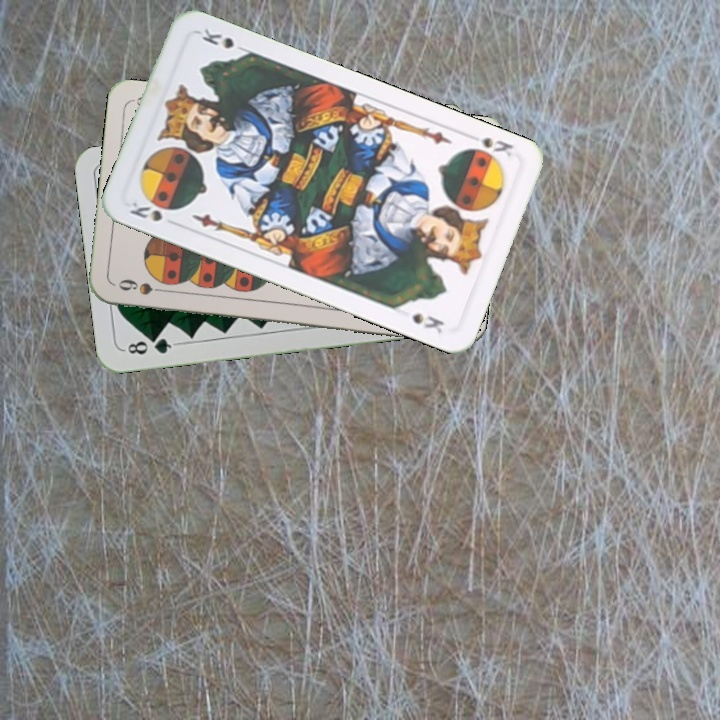G8: (120, 333, 179, 357)
S9: (114, 275, 172, 297)
SK: (461, 132, 516, 163), (125, 197, 165, 224)
